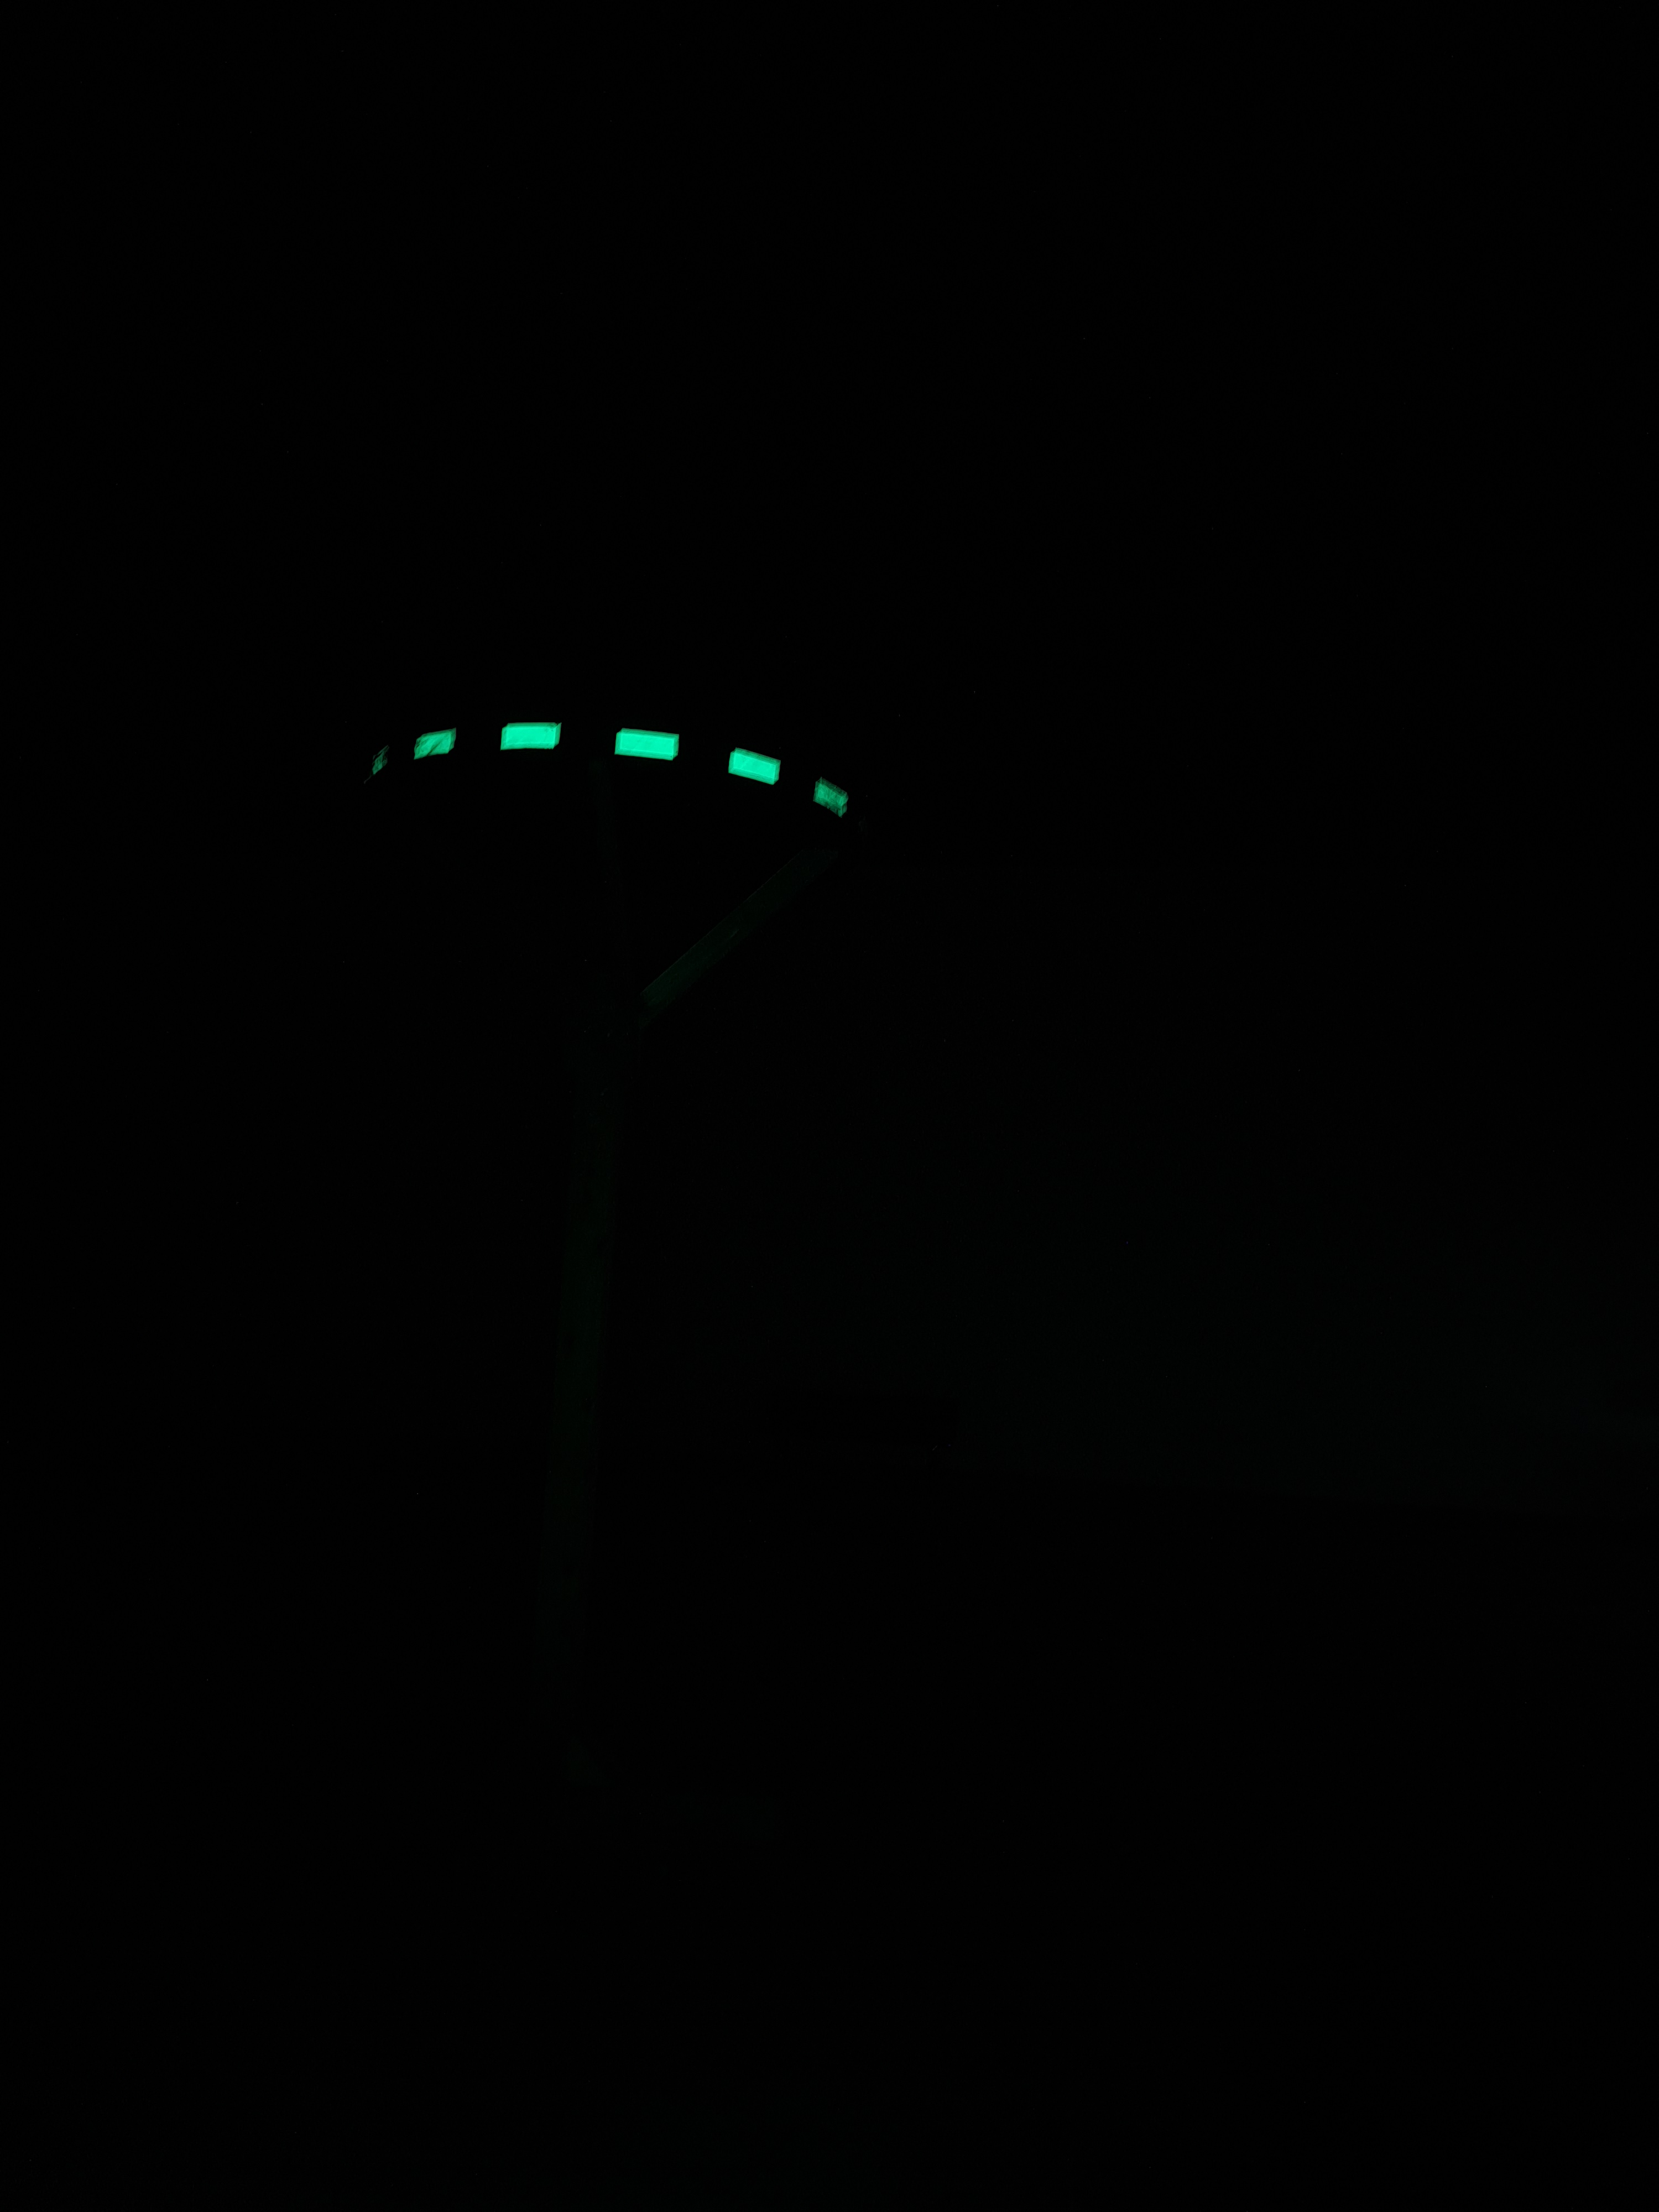hoop: (373, 716, 852, 826)
